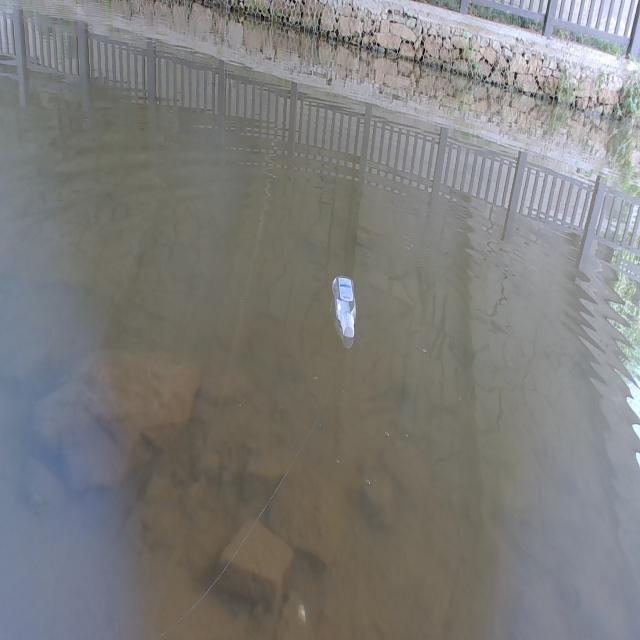bottle: (320, 260, 368, 352)
